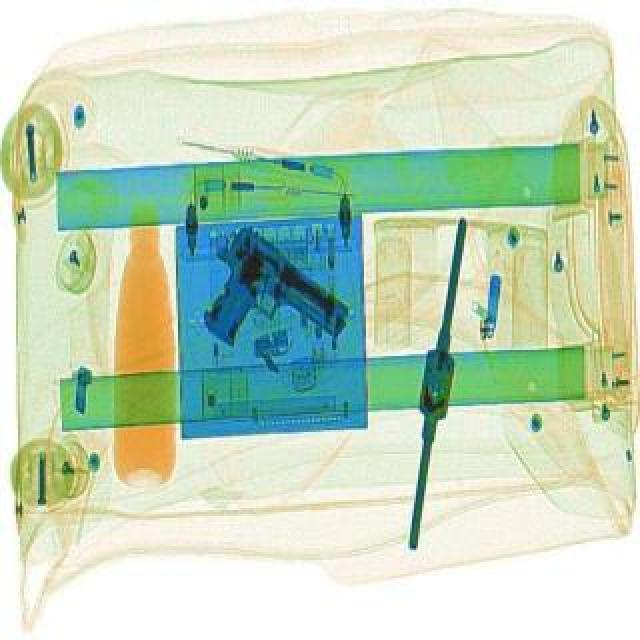gun: (166, 220, 358, 388)
